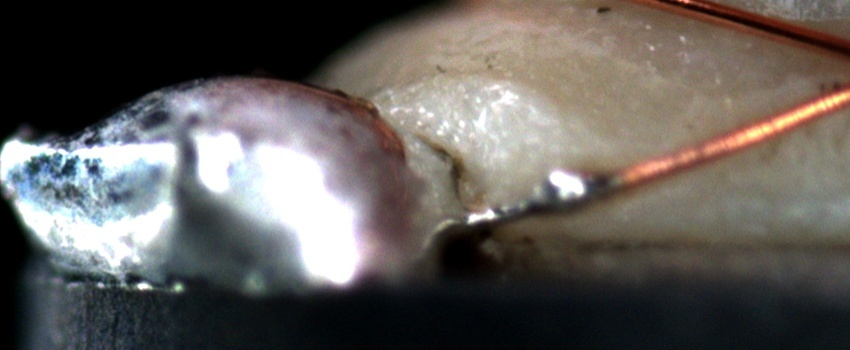TB: (523, 160, 616, 217)
TS: (470, 176, 617, 227)
TTCW: (460, 148, 674, 226)
